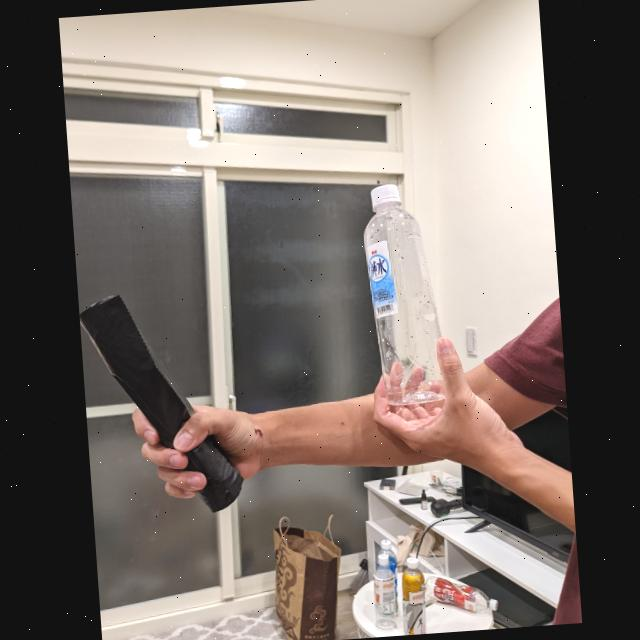trash: (354, 174, 460, 410)
